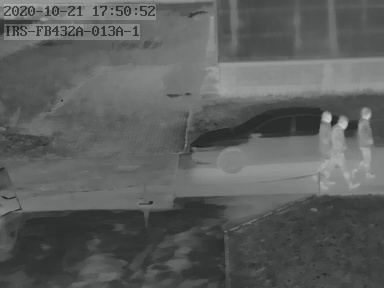person: (329, 115, 356, 188), (315, 109, 334, 188), (358, 107, 376, 179)
vehicle: (188, 108, 384, 178)
